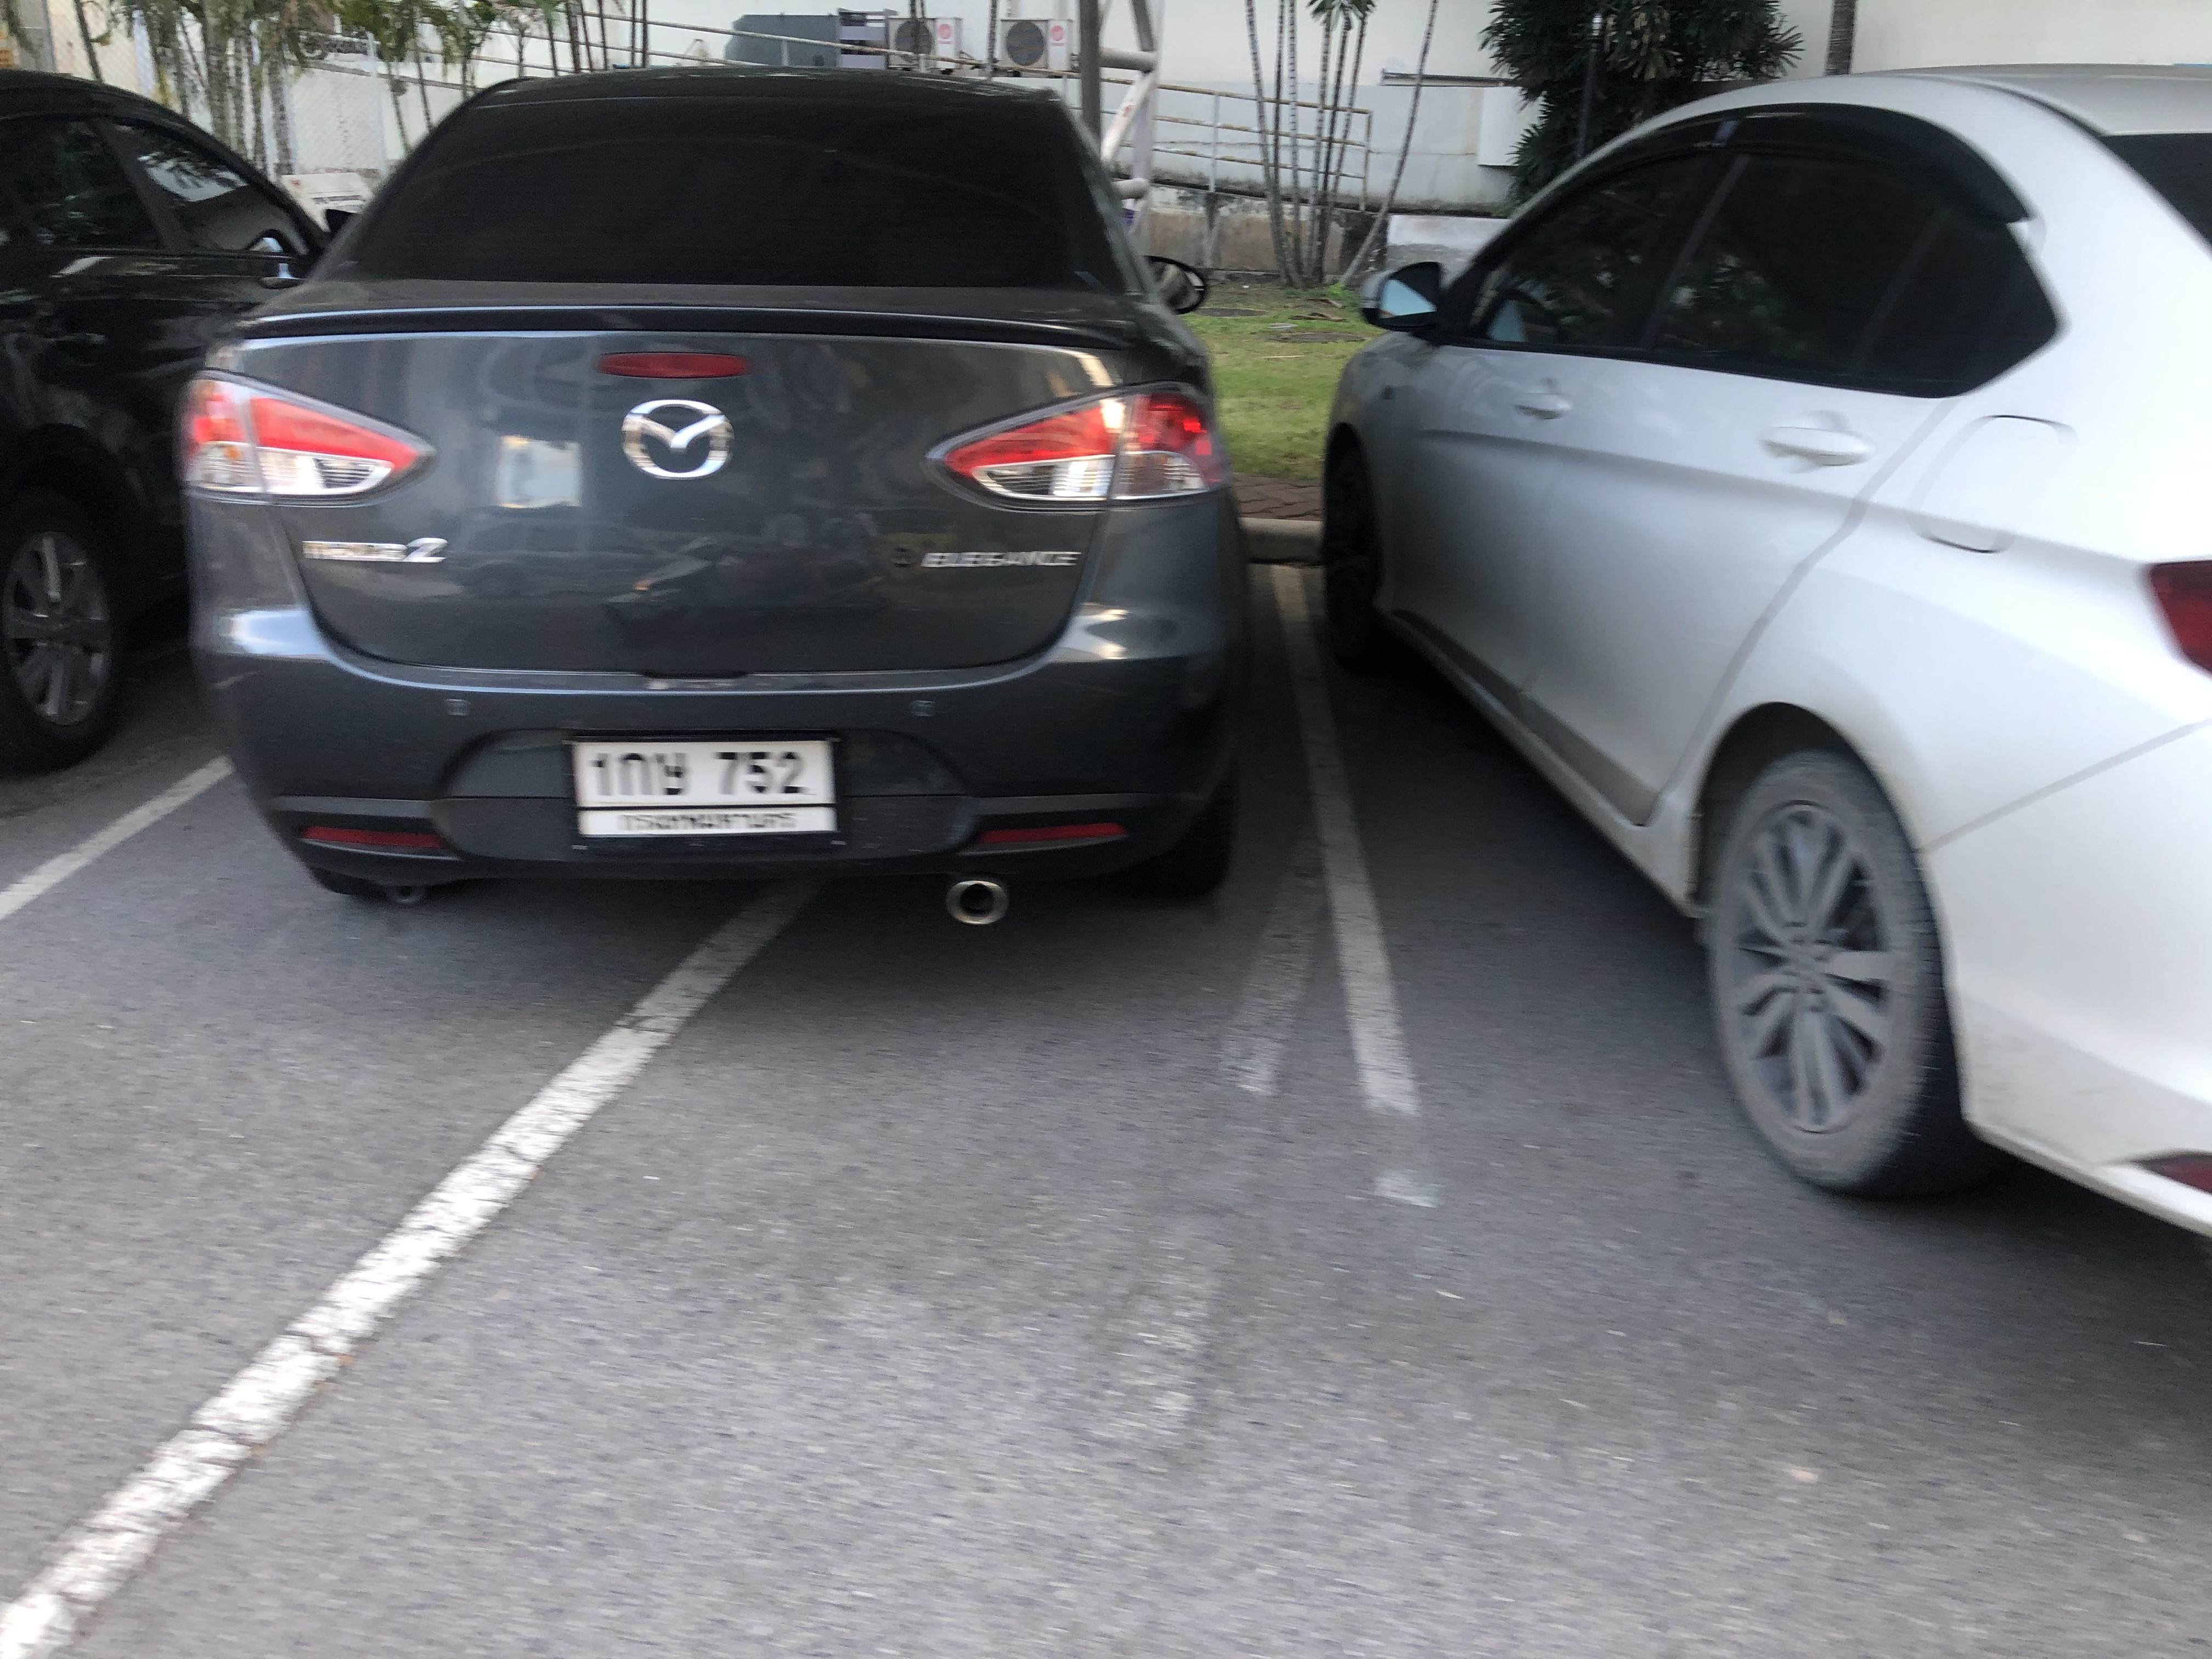in: (580, 739, 831, 831)
out: (559, 716, 848, 854)
